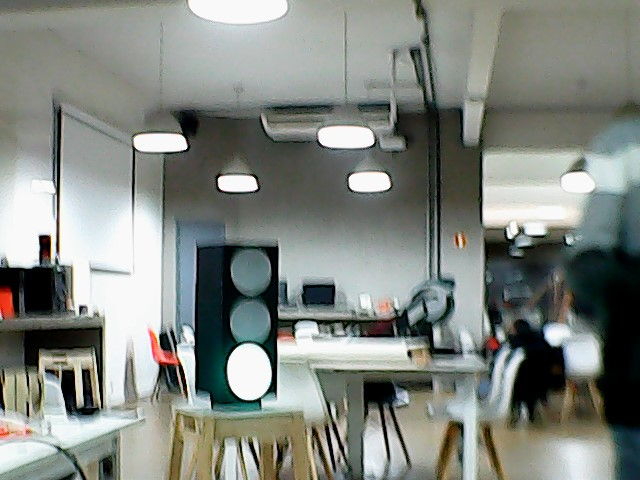verde: (191, 240, 282, 419)
